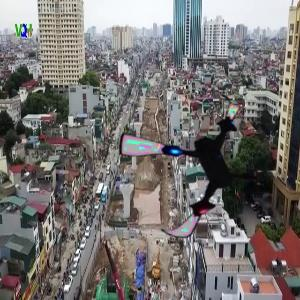drone: (113, 87, 270, 244)
